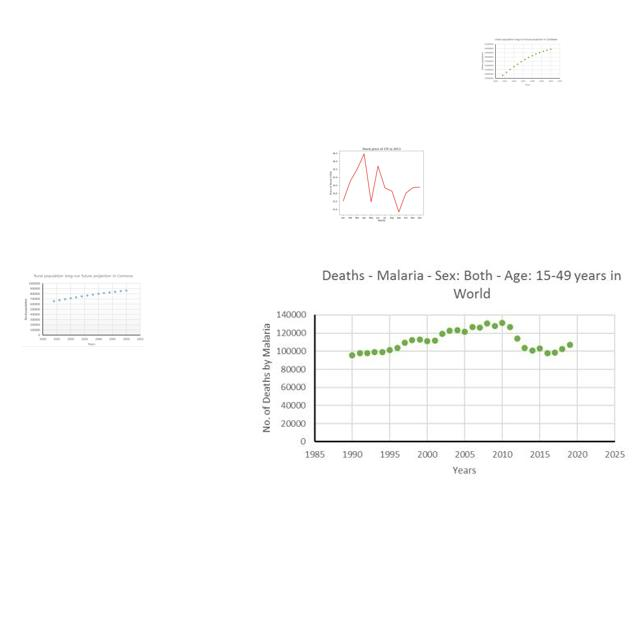Graph: (251, 258, 629, 483), (320, 141, 440, 224), (22, 273, 144, 347), (478, 37, 564, 87)
